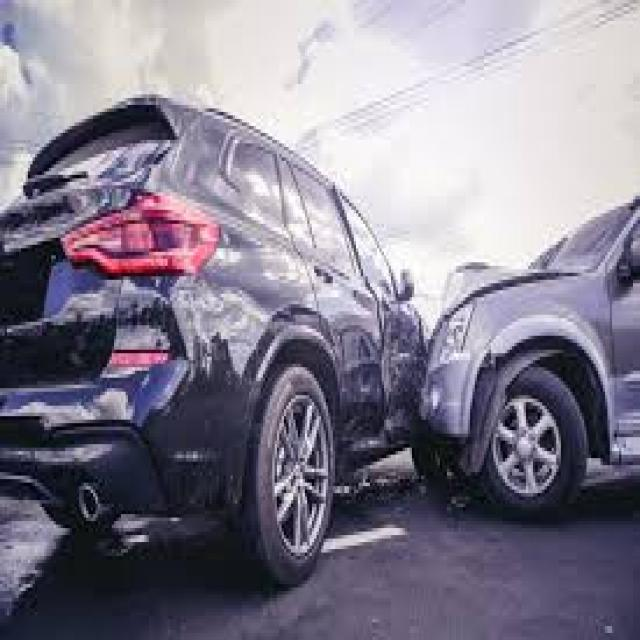accident: (146, 74, 620, 600)
